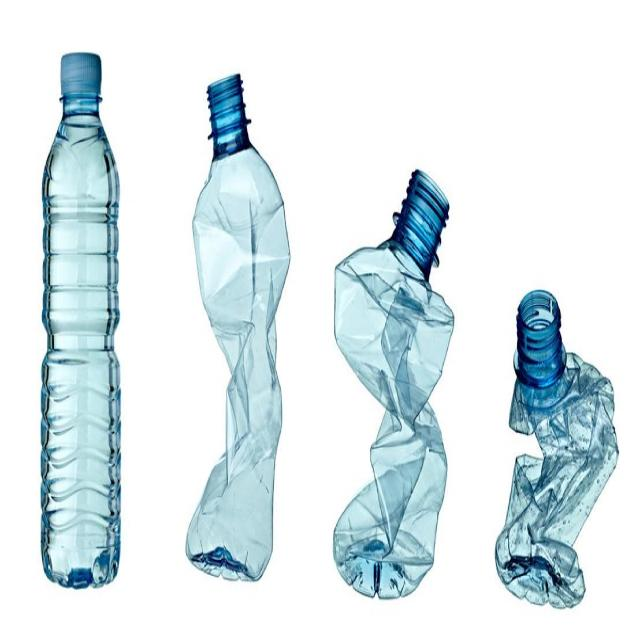plastic_bottle: (182, 65, 301, 593), (40, 45, 126, 596)
